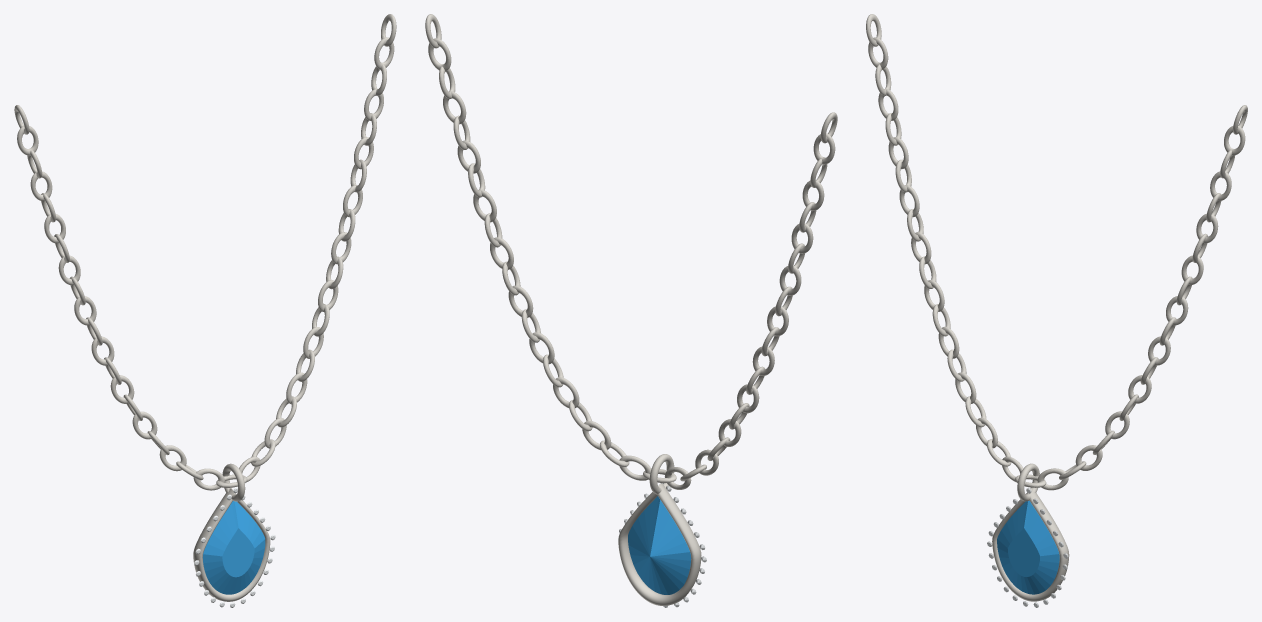
File: oval-necklace.glb
3 views of the same model, side by side, from view 1: azimuth 30°, elevation 25°; view 2: azimuth 150°, elevation 25°; view 3: azimuth 330°, elevation 25° (orthographic). The views are drawn at different scales.
Visible parts, largest first — view 1: 水滴形主寶石, 金屬鑲邊; view 2: 水滴形主寶石, 金屬鑲邊; view 3: 水滴形主寶石, 金屬鑲邊.
Part boxes in pixels (<box>): 水滴形主寶石: <box>202,501,265,594</box>; 金屬鑲邊: <box>193,488,270,601</box>; 水滴形主寶石: <box>628,496,691,594</box>; 金屬鑲邊: <box>618,483,701,605</box>; 水滴形主寶石: <box>997,500,1059,594</box>; 金屬鑲邊: <box>992,488,1069,601</box>.
Bounding box in the file's own units: 1.5 × 2 × 0.3009.
